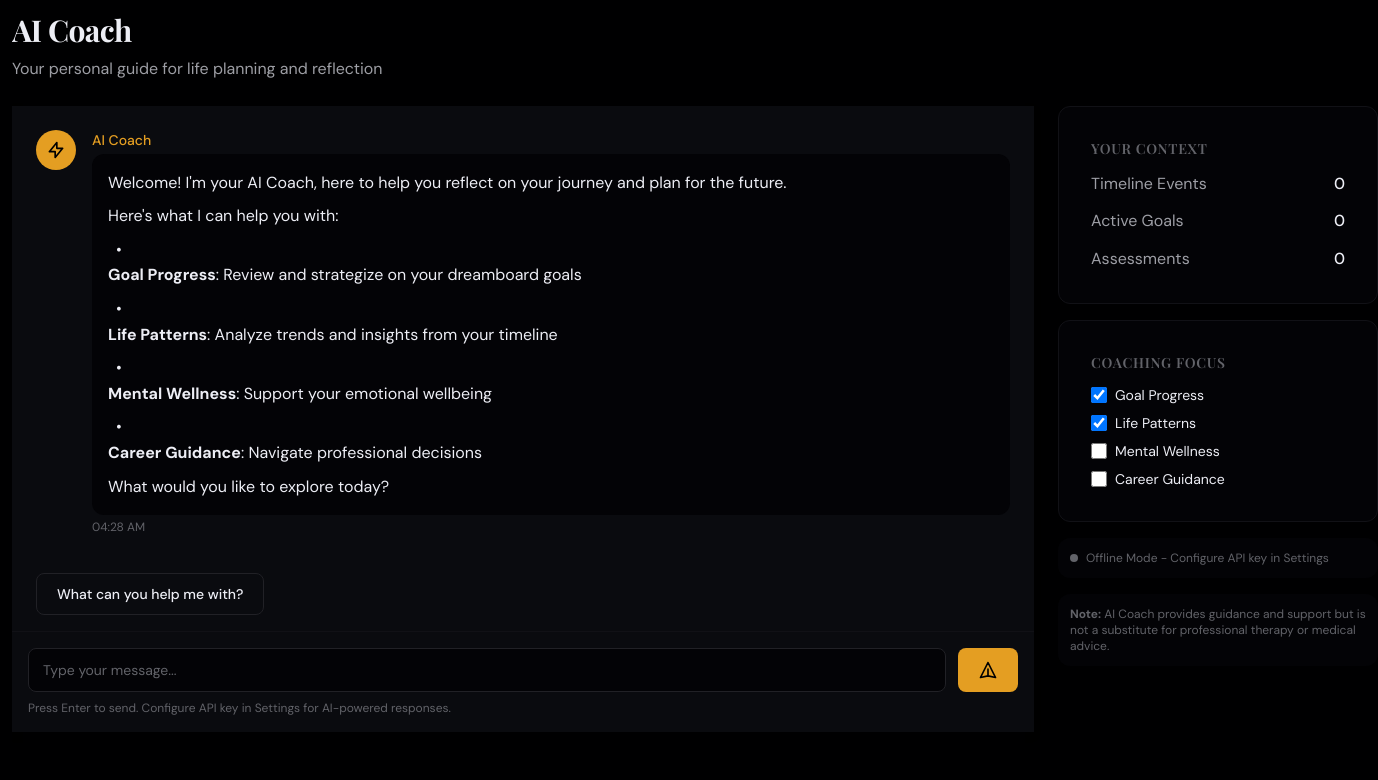
Test: CoachView › Message Sending › sends message when pressing Enter
Type "Test message" into the field with placeholder "Type your message..." at (487, 670), box [28, 648, 946, 692]
Then press Enter
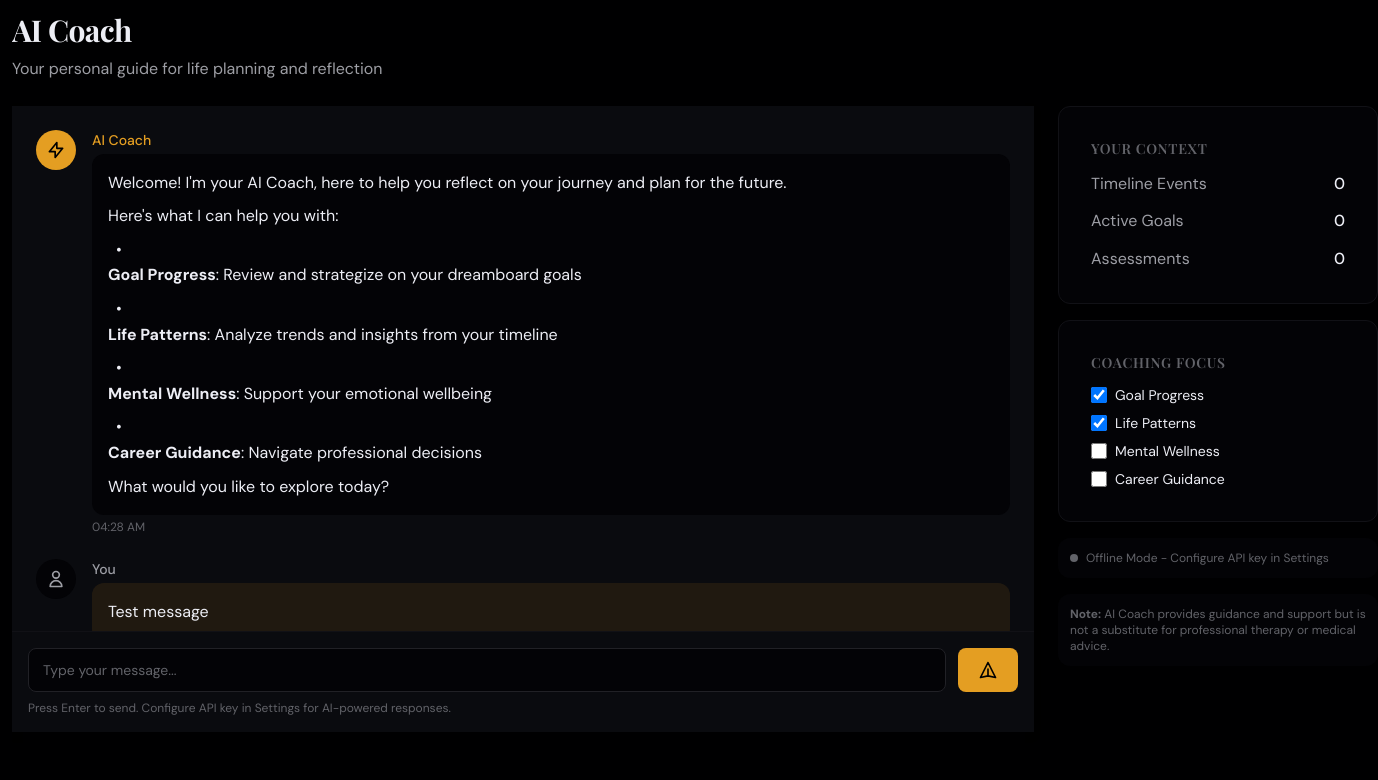
Expected: the text "Test message" is shown, [108, 601, 209, 622]
